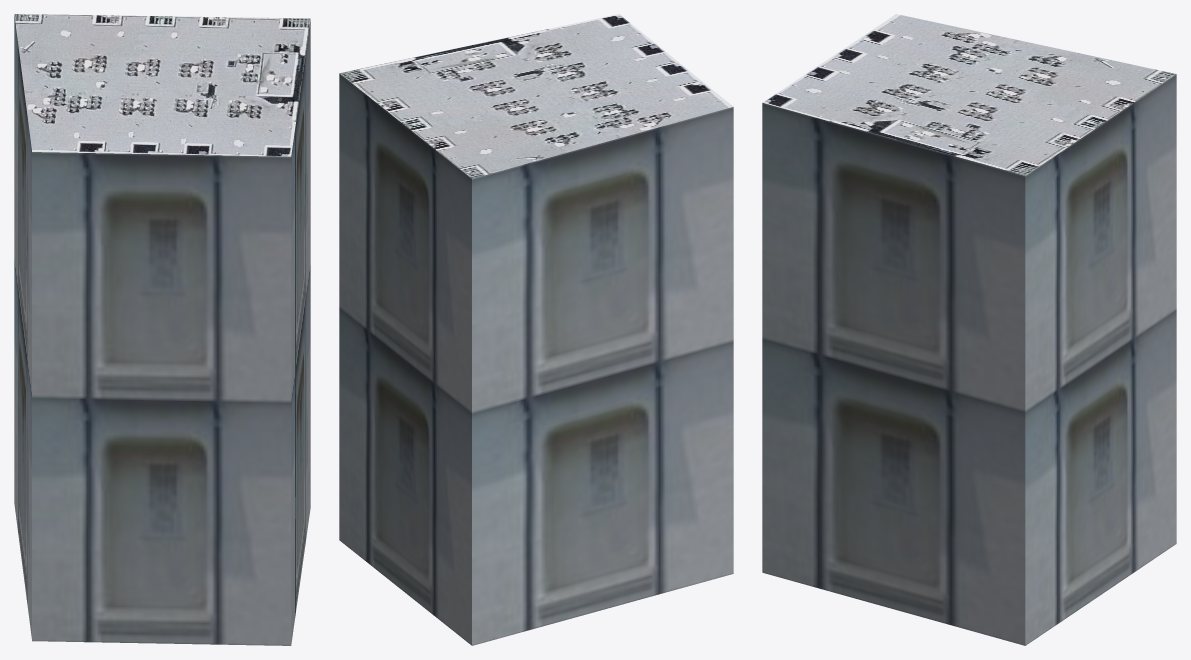
The model's file is ResTex__982.fbx.
3 views of the same model, side by side, from view 1: azimuth 30°, elevation 25°; view 2: azimuth 150°, elevation 25°; view 3: azimuth 270°, elevation 25° (orthographic). The views are drawn at different scales.
Parts seen in each view (by area): view 1: CityEngineMaterial_17_m, CityEngineMaterial_8_m; view 2: CityEngineMaterial_17_m, CityEngineMaterial_8_m; view 3: CityEngineMaterial_17_m, CityEngineMaterial_8_m.
Boxes of the visible parts, x1,y1,x2,y2 form: CityEngineMaterial_17_m: (14, 15, 310, 645); CityEngineMaterial_8_m: (14, 14, 310, 156); CityEngineMaterial_17_m: (339, 73, 733, 645); CityEngineMaterial_8_m: (339, 14, 733, 178); CityEngineMaterial_17_m: (762, 74, 1176, 645); CityEngineMaterial_8_m: (763, 14, 1175, 175).
Bounding box in the file's own units: 4.44 × 6 × 4.79.
2 materials, 2 textured.
